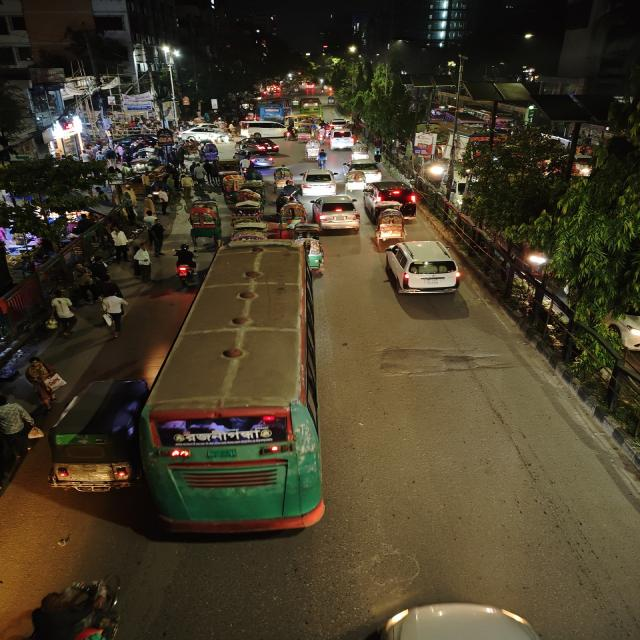bicycle: (314, 148, 332, 170)
bus: (144, 273, 327, 538), (301, 98, 324, 117), (258, 104, 282, 120)
car: (377, 236, 463, 299), (310, 194, 362, 233), (363, 182, 418, 212), (297, 167, 341, 196), (238, 119, 283, 139), (178, 128, 234, 144), (240, 147, 274, 170), (350, 159, 384, 181), (245, 134, 273, 156), (329, 128, 354, 151)
cng: (46, 376, 142, 506)
human_hauler: (284, 114, 313, 128)
motorcycle: (170, 244, 201, 289)
pedestrian: (23, 357, 64, 411), (96, 291, 132, 343), (43, 288, 75, 342), (72, 260, 94, 304), (109, 224, 131, 268), (133, 244, 157, 282), (147, 219, 168, 257), (90, 252, 111, 286), (157, 187, 174, 222), (181, 174, 195, 202), (192, 165, 208, 188), (145, 194, 154, 226), (369, 150, 385, 167)
rickshaw: (184, 200, 222, 249), (297, 223, 328, 269), (232, 197, 264, 240), (377, 209, 405, 248), (214, 169, 242, 203), (282, 202, 301, 232), (341, 171, 366, 193), (197, 140, 220, 163), (181, 136, 202, 161), (302, 138, 320, 163), (274, 166, 291, 191)
